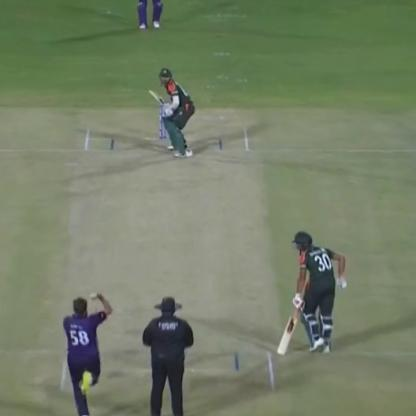ball: (84, 288, 99, 302)
bat: (272, 302, 306, 356), (140, 80, 175, 116)
pitch: (52, 121, 277, 404)
